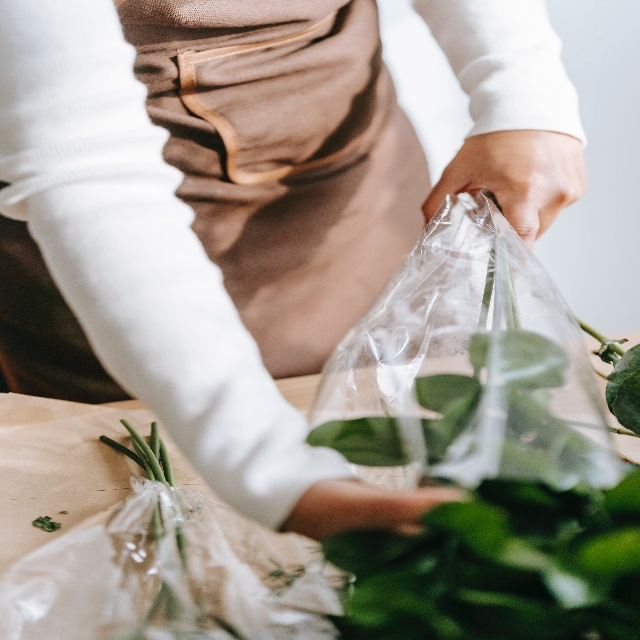Sin_guantes: (420, 125, 586, 257), (291, 464, 473, 539)
